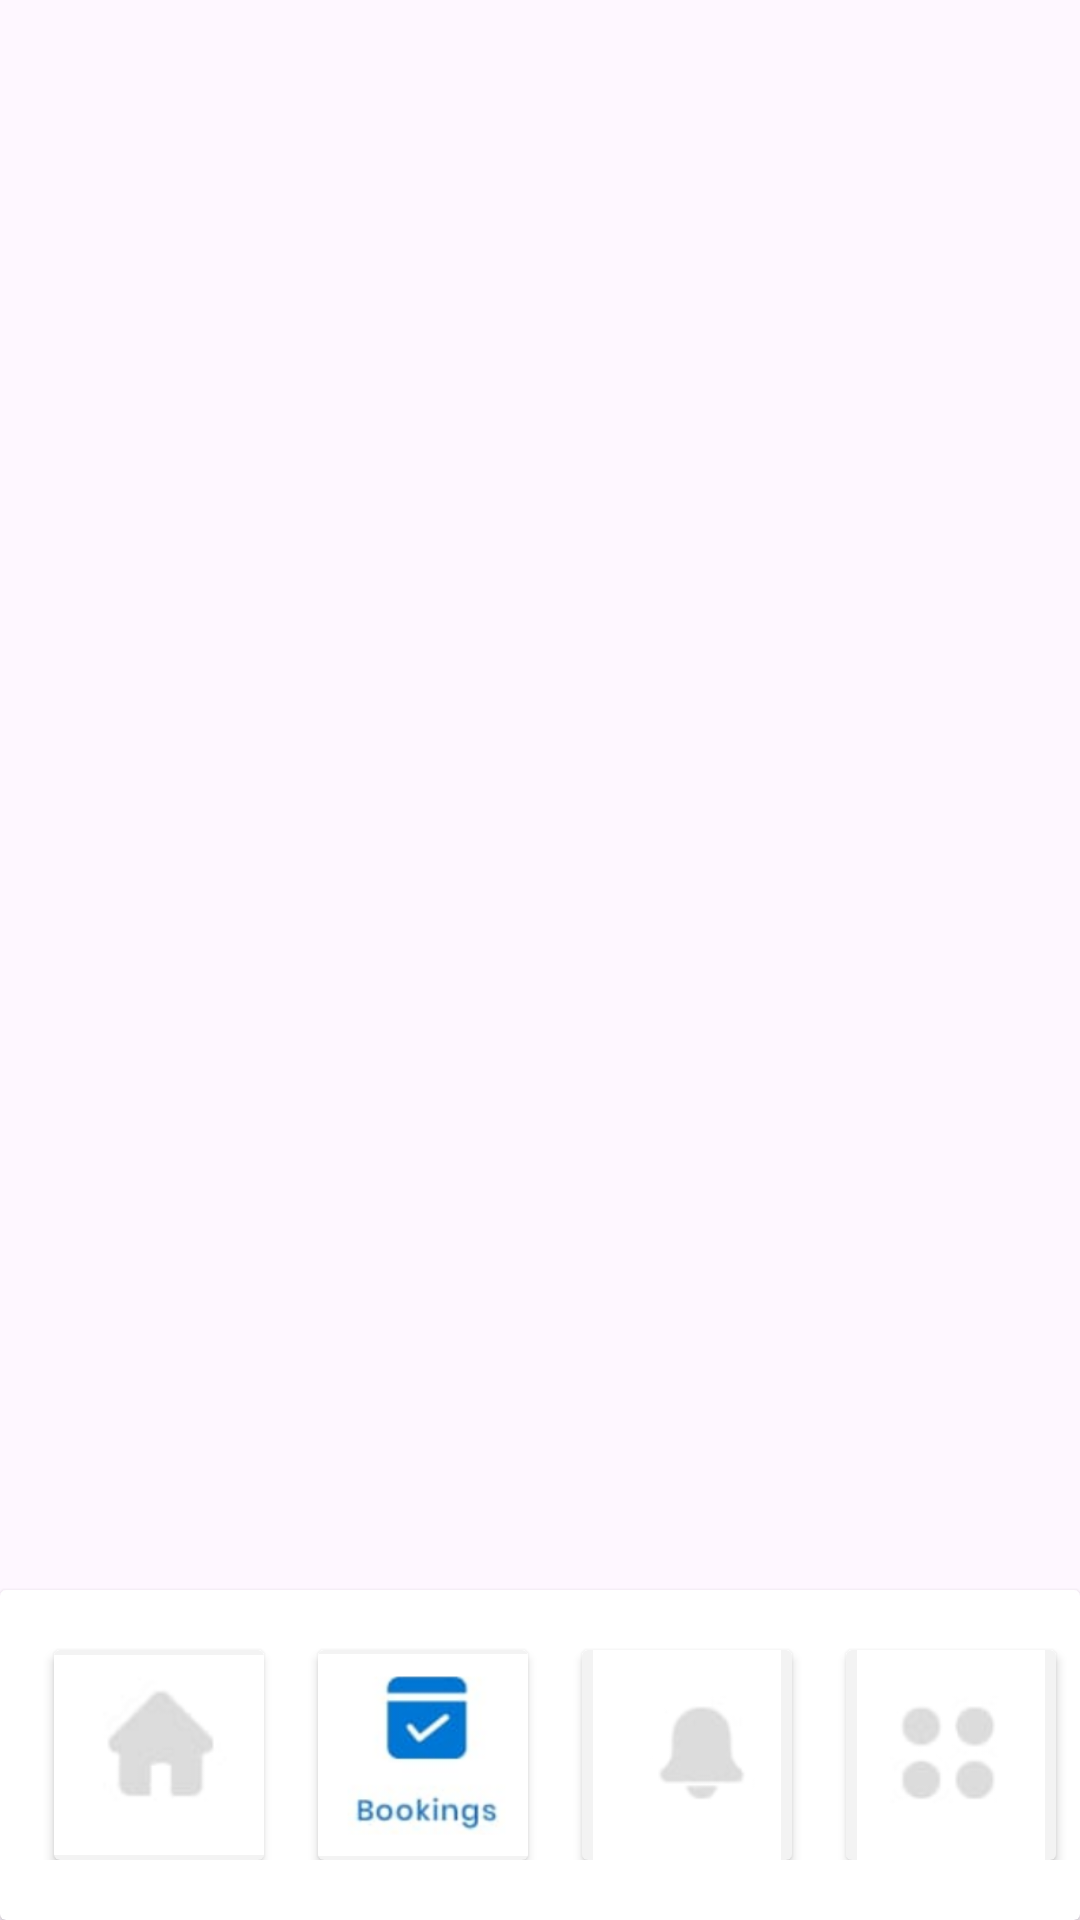

Named icons in this screenshot (1080px x 1920px) and their bounding boxes, (x1, y1, x2, y2):
home: (54, 1692, 263, 1860)
menu: (846, 1650, 1056, 1860)
notification: (582, 1650, 792, 1860)
